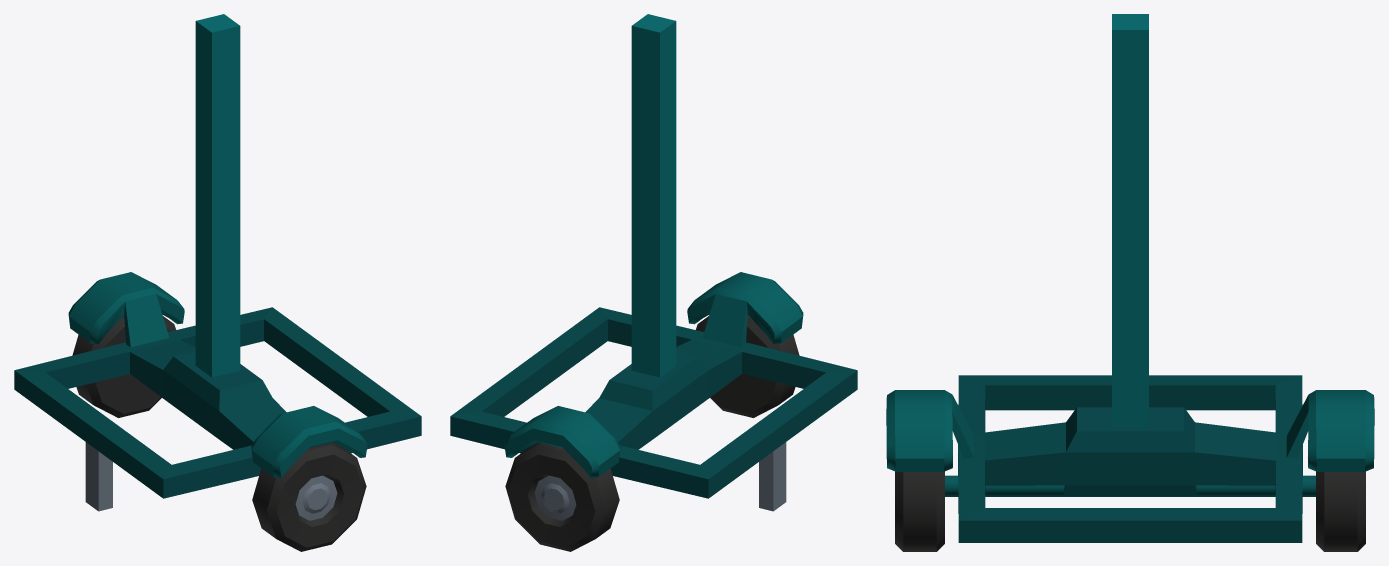
The model's file is SignHolder_1_C.fbx.
3 renders of one model, left to right at view 1: azimuth 30°, elevation 25°; view 2: azimuth 150°, elevation 25°; view 3: azimuth 270°, elevation 25°, orthographic. The views are drawn at different scales.
Parts seen in each view (by area): view 1: SignHolder_1_C; view 2: SignHolder_1_C; view 3: SignHolder_1_C.
Part boxes in pixels (box(x1,y1,x2,y2)): SignHolder_1_C: box(14, 14, 421, 551); SignHolder_1_C: box(450, 14, 857, 551); SignHolder_1_C: box(886, 14, 1374, 551).
Bounding box in the file's own units: 76.63 × 128 × 109.
